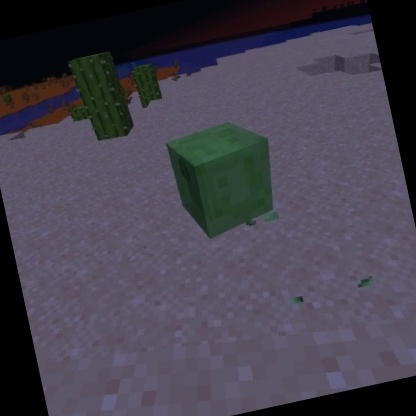slime: (160, 111, 289, 248)
